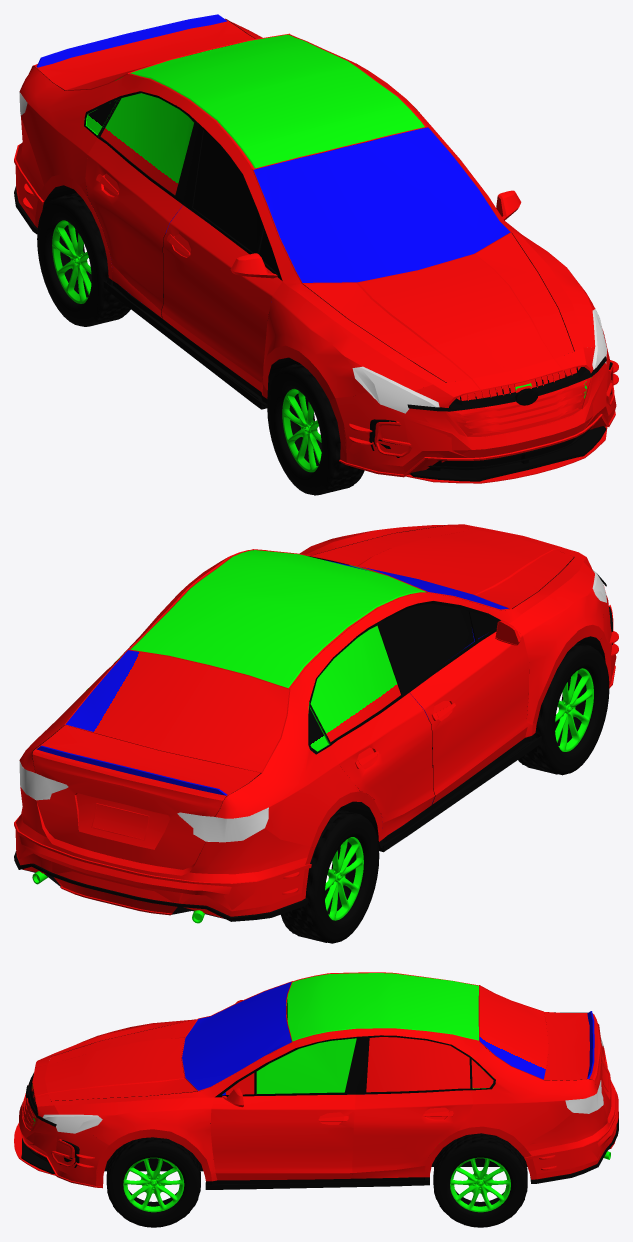
File: sedan-awd-lod0.glb
3 renders of one model, top to bottom at view 1: azimuth 30°, elevation 25°; view 2: azimuth 150°, elevation 25°; view 3: azimuth 270°, elevation 25°, orthographic. The views are drawn at different scales.
Parts seen in each view (by area): view 1: body, glass_a, door_r_rear, door_r_front, bumper_front_c, bumper_front_b, Wheel.003, Wheel.002, bumper_front_a, glass_door_r, skirt_c, spoiler_a (+2 smaller); view 2: body, glass_c, door_r_rear, door_r_front, bumper_rear_c, Wheel.002, bumper_rear_b, Wheel.003, glass_door_r, bumper_rear_a, skirt_c, spoiler_a (+3 smaller); view 3: body, door_l_rear, door_l_front, glass_a, Wheel.001, Wheel, glass_door_l, glass_c, bumper_front_c, bumper_rear_b, bumper_rear_c, bumper_front_a (+4 smaller).
Part boxes in pixels (x1,y1,x2,y2): body: [19, 18, 606, 413]; glass_a: [253, 127, 510, 282]; door_r_rear: [85, 91, 199, 317]; door_r_front: [161, 124, 282, 391]; bumper_front_c: [329, 333, 618, 483]; bumper_front_b: [330, 347, 612, 481]; Wheel.003: [267, 363, 364, 495]; Wheel.002: [37, 192, 130, 326]; bumper_front_a: [330, 348, 616, 475]; glass_door_r: [193, 131, 277, 273]; skirt_c: [103, 278, 267, 409]; spoiler_a: [36, 14, 227, 67]; body: [19, 525, 606, 923]; glass_c: [65, 650, 289, 772]; door_r_rear: [309, 620, 434, 839]; door_r_front: [382, 601, 529, 804]; bumper_rear_c: [14, 797, 314, 921]; Wheel.002: [281, 809, 379, 943]; bumper_rear_b: [15, 787, 310, 916]; Wheel.003: [518, 642, 609, 775]; glass_door_r: [387, 603, 497, 683]; bumper_rear_a: [15, 807, 311, 918]; skirt_c: [378, 733, 541, 852]; spoiler_a: [36, 745, 227, 795]; body: [42, 972, 611, 1181]; door_l_rear: [352, 1035, 473, 1178]; door_l_front: [210, 1036, 363, 1180]; glass_a: [182, 982, 291, 1090]; Wheel.001: [433, 1133, 527, 1227]; Wheel: [106, 1137, 200, 1227]; glass_door_l: [222, 1038, 356, 1095]; glass_c: [479, 986, 548, 1079]; bumper_front_c: [14, 1059, 115, 1188]; bumper_rear_b: [524, 1048, 618, 1179]; bumper_rear_c: [517, 1053, 618, 1183]; bumper_front_a: [19, 1053, 115, 1185].
Bounding box in the file's own units: 2.06 × 1.76 × 5.28.
Materials: 8 (5 with a texture image).
